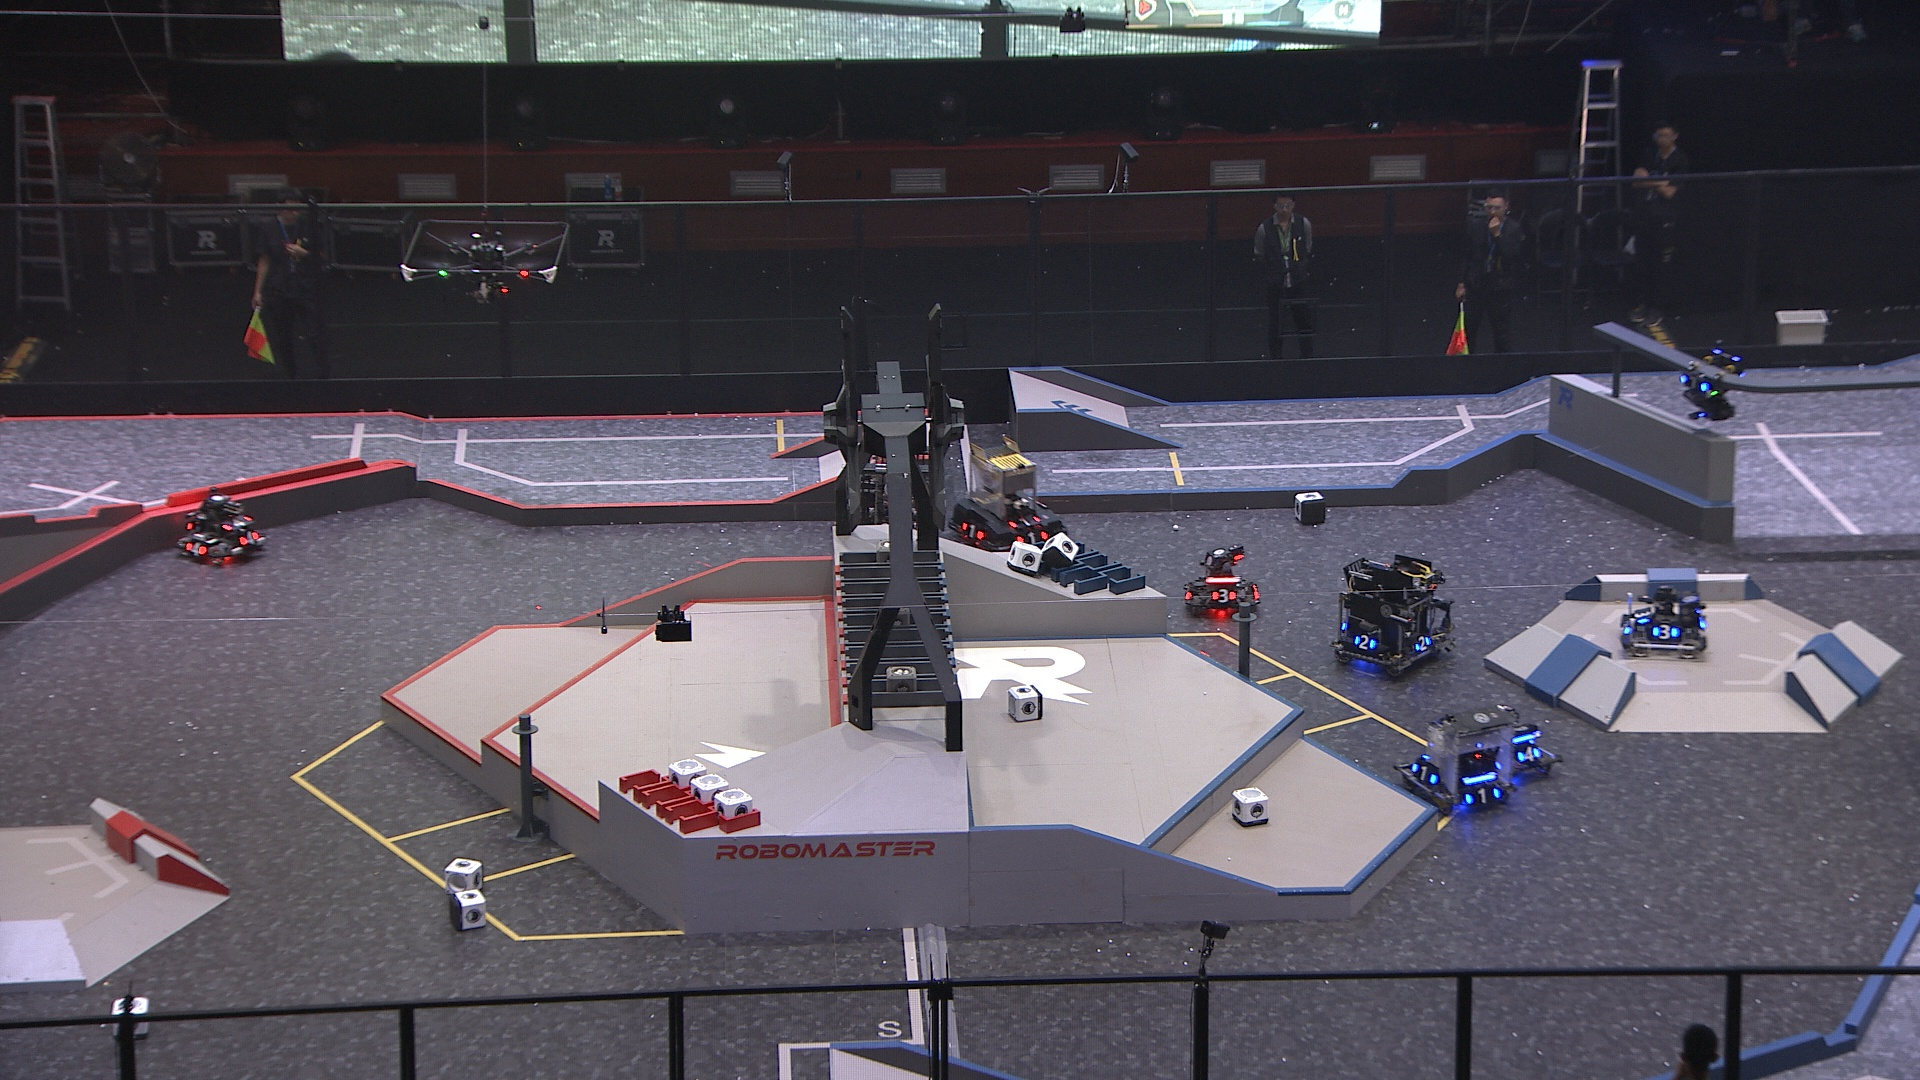armor: (1410, 760, 1439, 787), (1462, 785, 1501, 804), (1681, 373, 1709, 392), (961, 520, 984, 542), (1651, 624, 1677, 642), (1010, 512, 1040, 527), (1633, 603, 1655, 624), (1352, 632, 1375, 650), (223, 516, 251, 531), (1017, 531, 1048, 545), (1414, 636, 1432, 655), (185, 541, 207, 556), (1212, 588, 1236, 603), (1518, 745, 1539, 761), (237, 531, 258, 546), (1182, 583, 1192, 603)
car: (1329, 553, 1455, 680), (948, 447, 1069, 564), (1396, 707, 1519, 816), (1619, 580, 1712, 659), (1484, 702, 1561, 793), (174, 487, 264, 564), (1179, 543, 1262, 621)
watcher: (1677, 345, 1747, 422)
